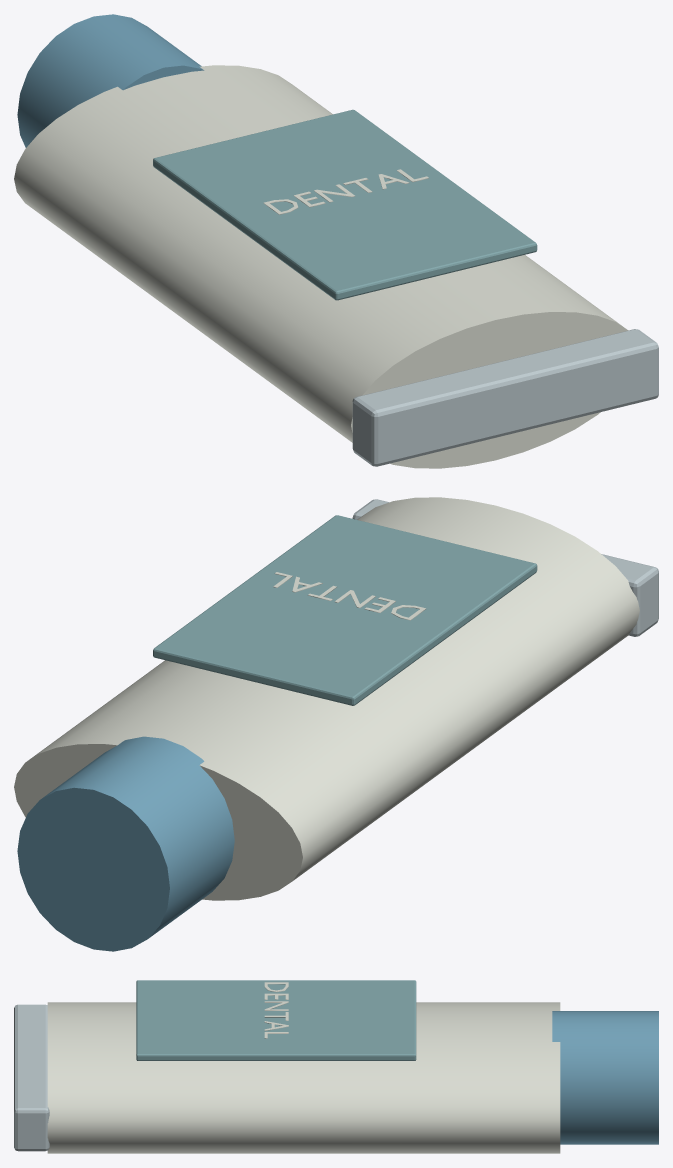
Rendered from loot_toothpaste.glb.
3 renders of one model, top to bottom at view 1: azimuth 30°, elevation 25°; view 2: azimuth 150°, elevation 25°; view 3: azimuth 270°, elevation 25°, orthographic. The views are drawn at different scales.
Parts seen in each view (by area): view 1: loot_toothpaste; view 2: loot_toothpaste; view 3: loot_toothpaste.
Part boxes in pixels (<box>): loot_toothpaste: <box>14,14,658,468</box>; loot_toothpaste: <box>14,497,658,951</box>; loot_toothpaste: <box>14,980,658,1153</box>.
Bounding box in the file's own units: 0.0644 × 0.0361 × 0.1635.
